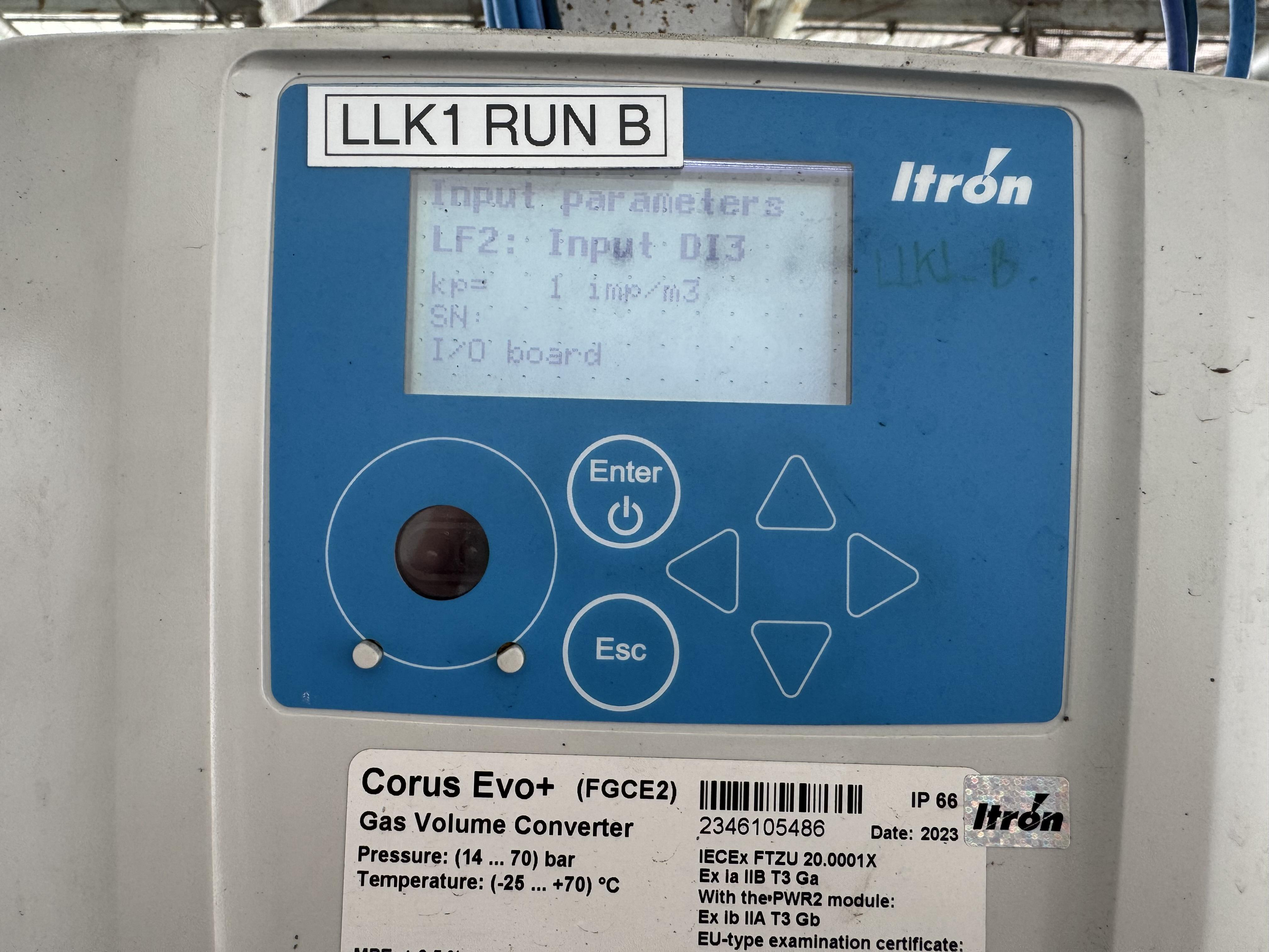digital_screen: (405, 154, 858, 406)
